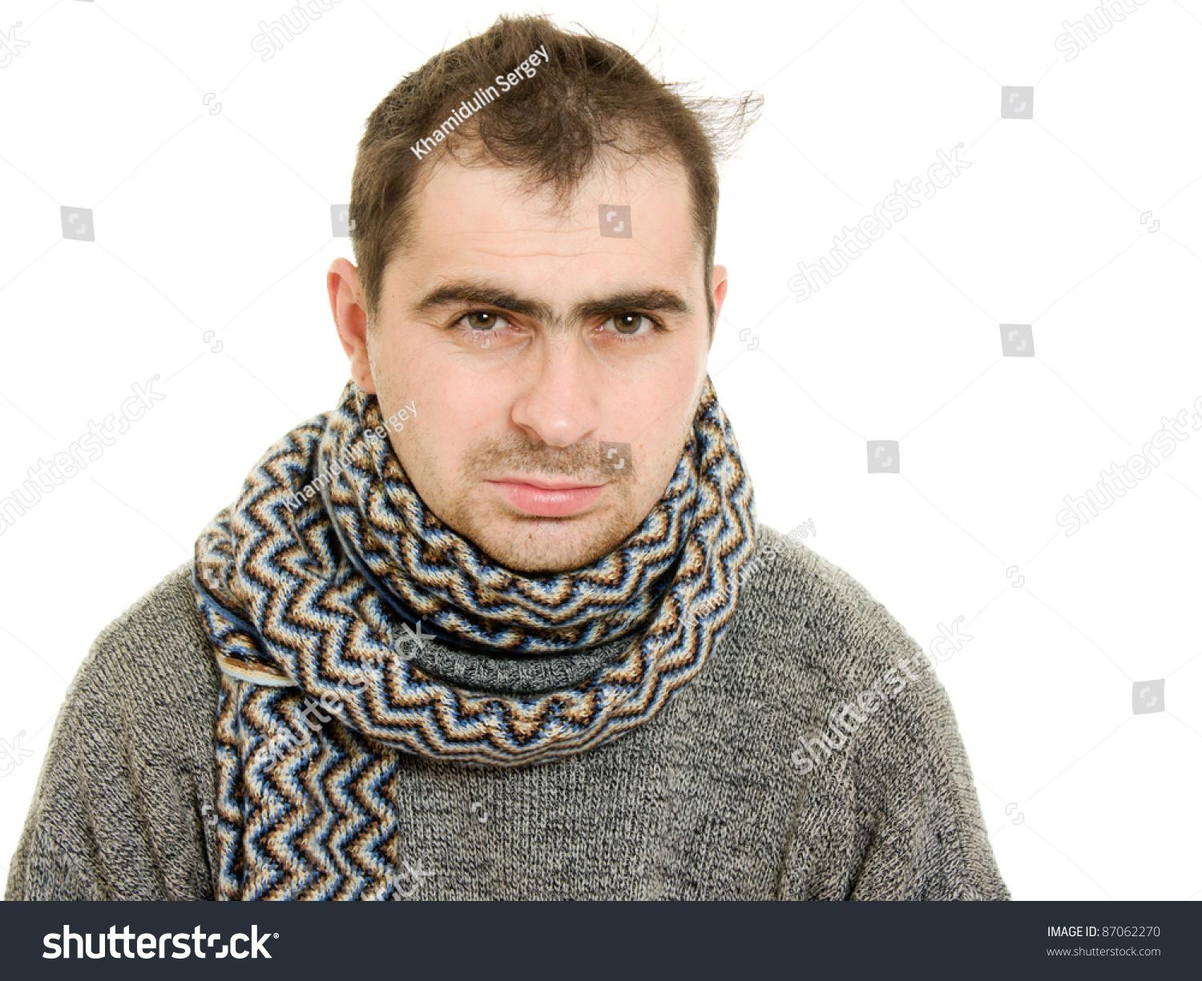person: (307, 0, 724, 613)
